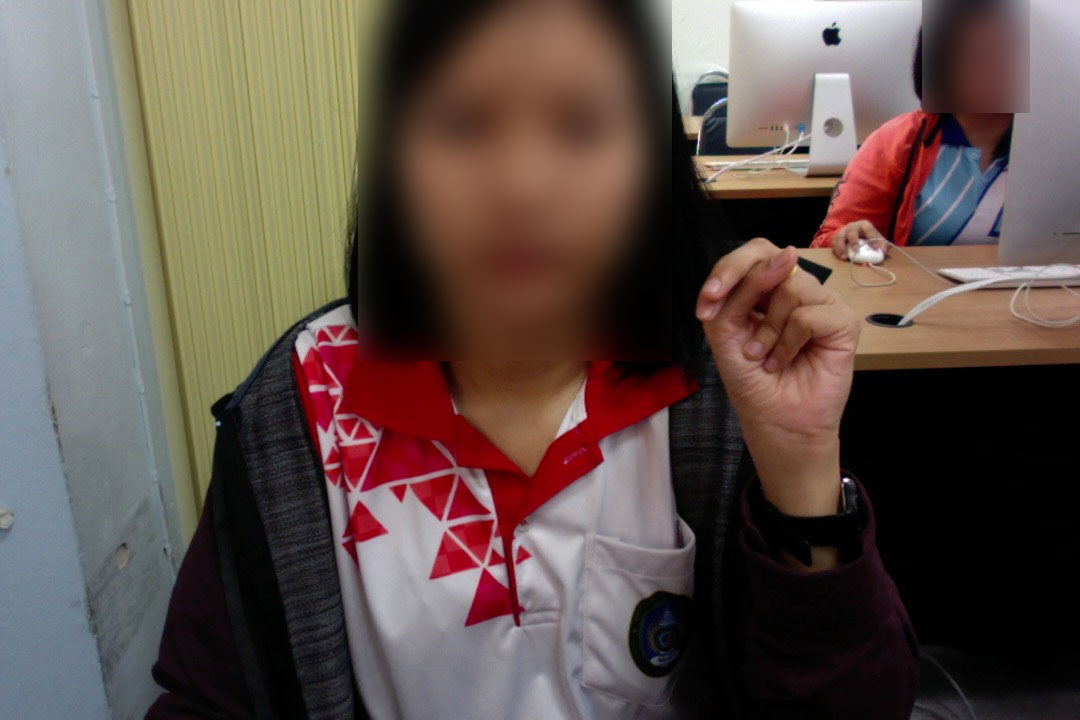nor: (682, 226, 866, 481)
